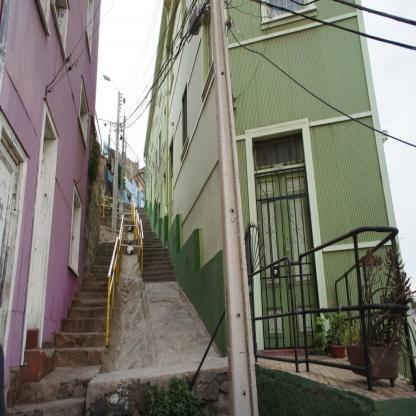door: (248, 127, 322, 353)
stair: (64, 234, 120, 356), (130, 197, 180, 288)
